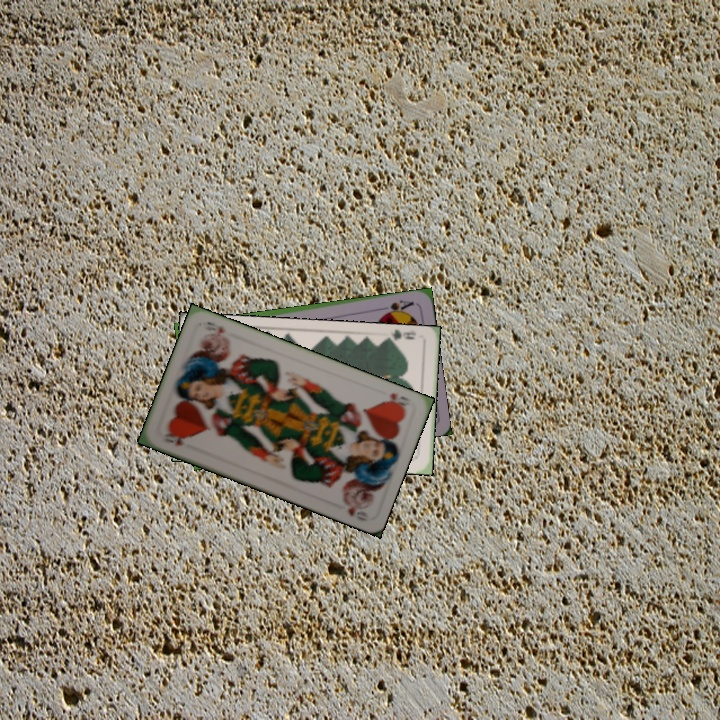G9: (382, 327, 418, 347)
HO: (378, 388, 413, 412), (157, 429, 188, 449)
SA: (378, 296, 417, 317)
